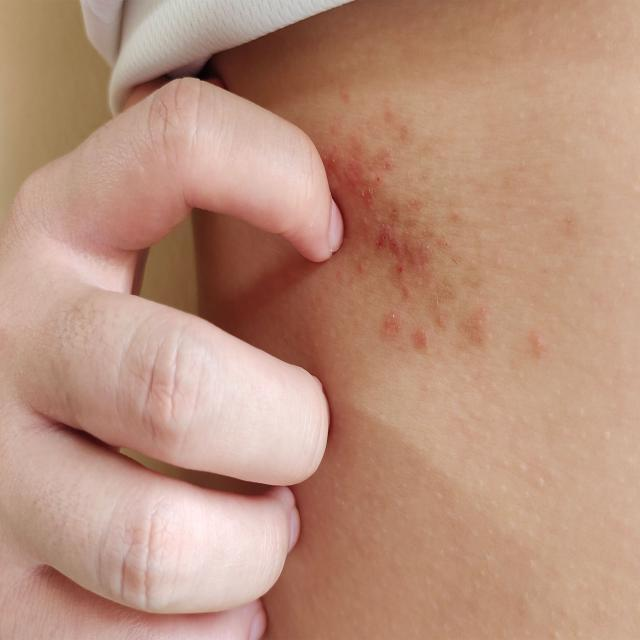Eczema: (309, 127, 552, 380)
